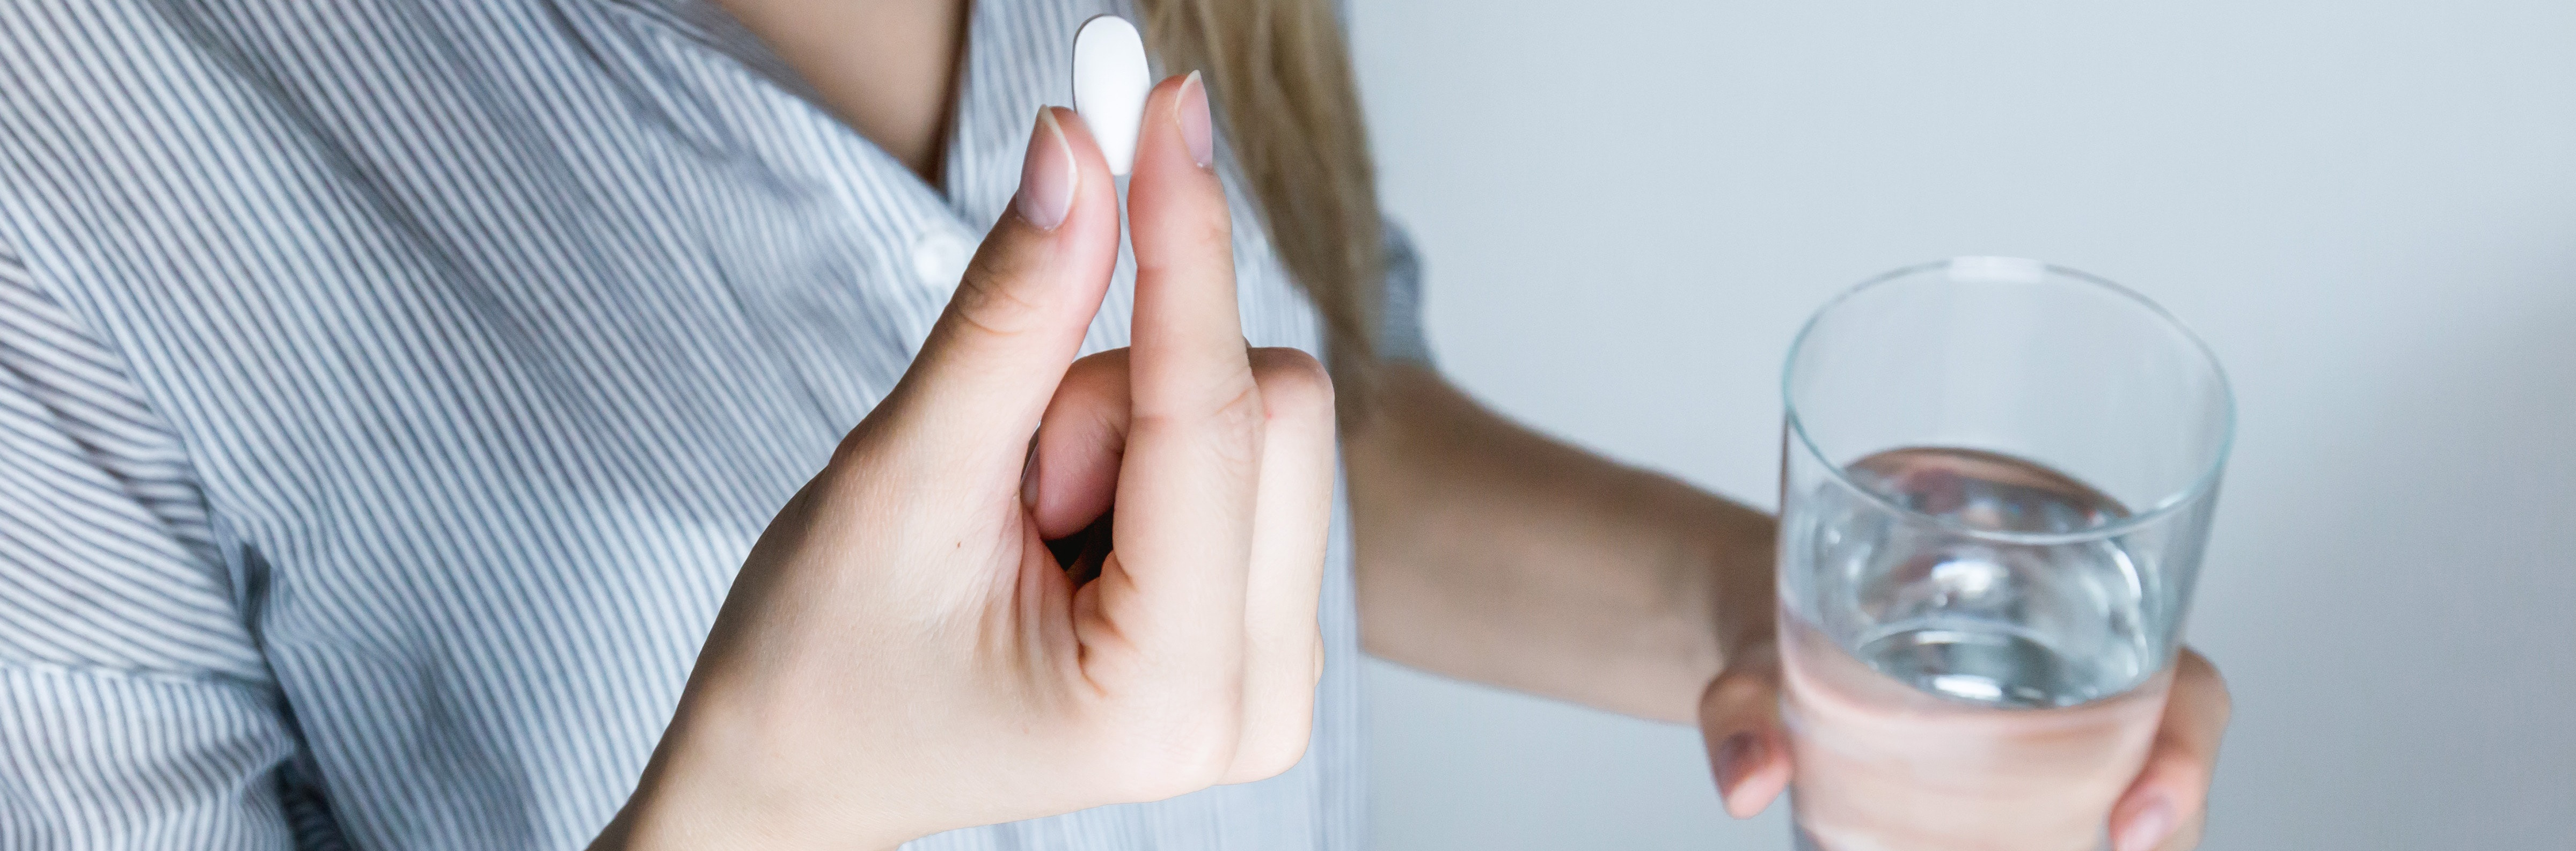pills: (1066, 8, 1180, 202)
